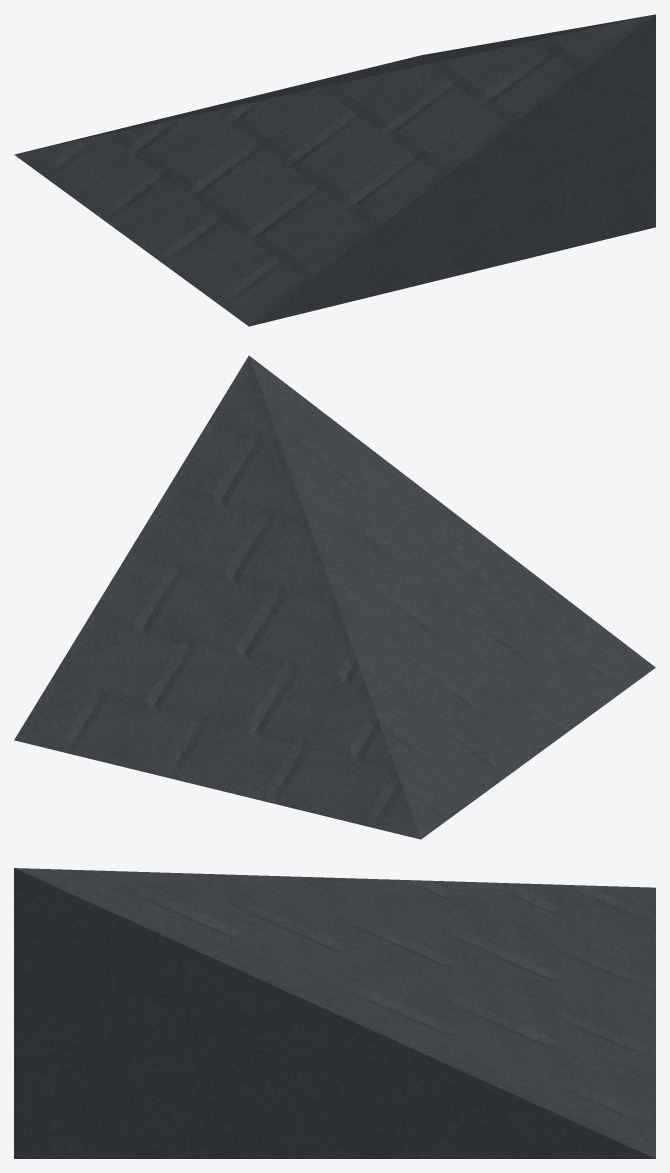
The model's file is codex_roof_hip.glb.
3 renders of one model, top to bottom at view 1: azimuth 30°, elevation 25°; view 2: azimuth 150°, elevation 25°; view 3: azimuth 270°, elevation 25°, orthographic. The views are drawn at different scales.
Visible parts, largest first — view 1: codex_roof_hip.002; view 2: codex_roof_hip.002; view 3: codex_roof_hip.002.
Part boxes in pixels (bbox=[...]): codex_roof_hip.002: bbox=[14, 14, 655, 326]; codex_roof_hip.002: bbox=[14, 355, 655, 839]; codex_roof_hip.002: bbox=[14, 868, 655, 1158].
Bounding box in the file's own units: 1 × 0.5 × 1.
1 material, 1 textured.
